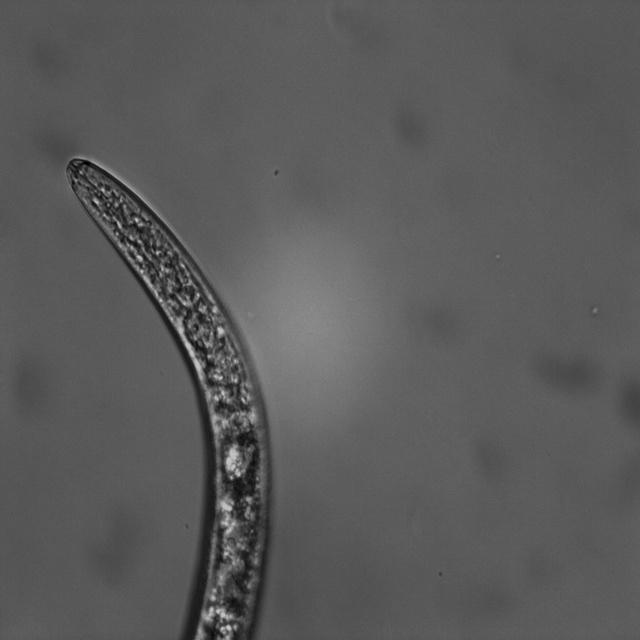Helicotylenchus: (58, 152, 283, 640)
